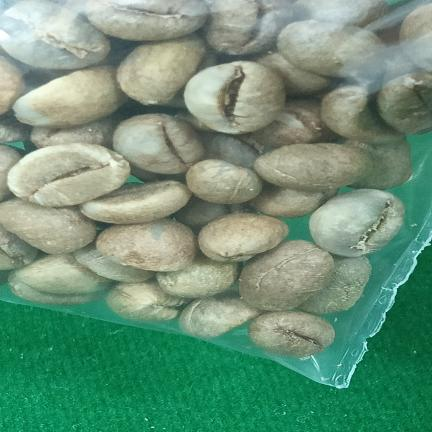cut: (7, 143, 130, 207), (0, 0, 110, 70), (184, 61, 285, 134), (13, 66, 127, 128), (238, 240, 334, 311), (309, 189, 405, 257), (117, 35, 205, 105), (277, 20, 383, 76), (254, 143, 372, 192), (113, 114, 204, 174), (96, 219, 198, 272), (0, 198, 96, 254), (84, 0, 207, 41), (238, 99, 337, 149), (80, 180, 191, 224), (321, 86, 404, 144), (206, 0, 292, 55), (198, 213, 289, 262), (297, 256, 371, 314), (15, 253, 113, 294), (248, 311, 335, 357), (179, 292, 263, 338), (156, 254, 240, 298), (186, 159, 262, 204), (253, 52, 330, 96), (377, 73, 432, 134), (72, 243, 154, 283), (107, 281, 186, 322), (350, 138, 412, 190), (250, 183, 338, 218), (294, 0, 390, 27), (196, 131, 262, 169), (30, 118, 113, 148), (399, 3, 432, 71), (365, 0, 426, 31), (0, 224, 38, 270), (0, 56, 24, 115)
